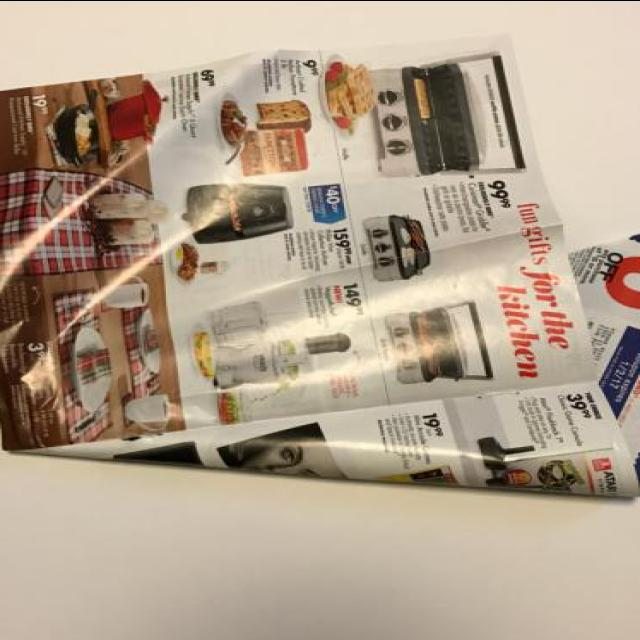kertas: (0, 33, 640, 502)
